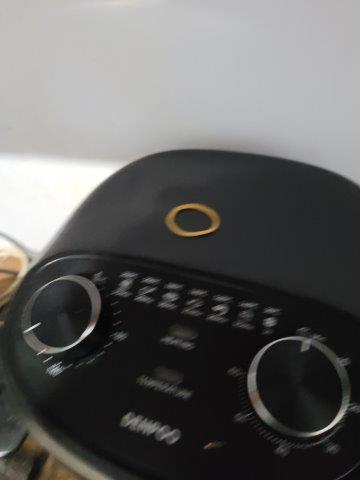karet: (166, 204, 221, 237)
